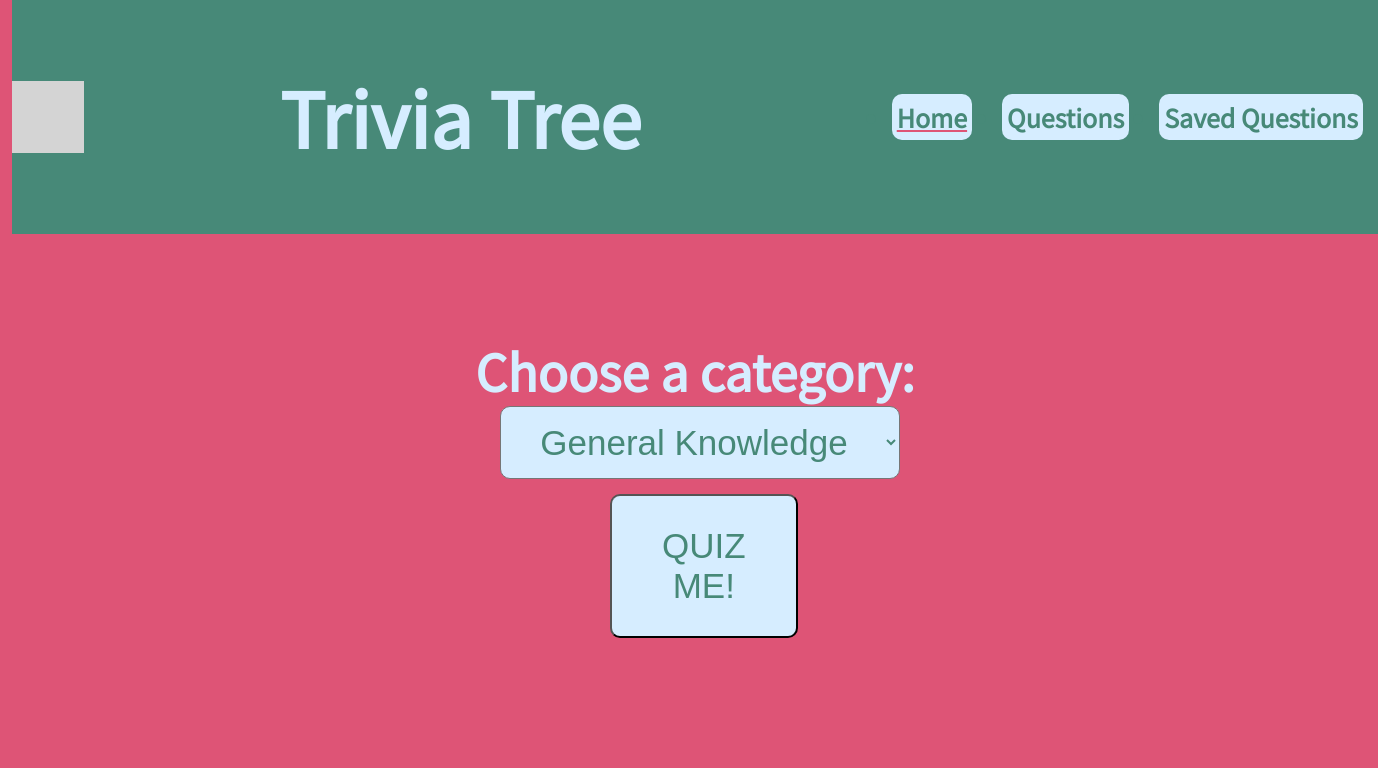
SavedQuestionsDisplay › Should tell the user if they don't have any saved questions yet
Step 1. Click the button "QUIZ ME!" → (704, 566), box left=610, top=494, right=798, bottom=638
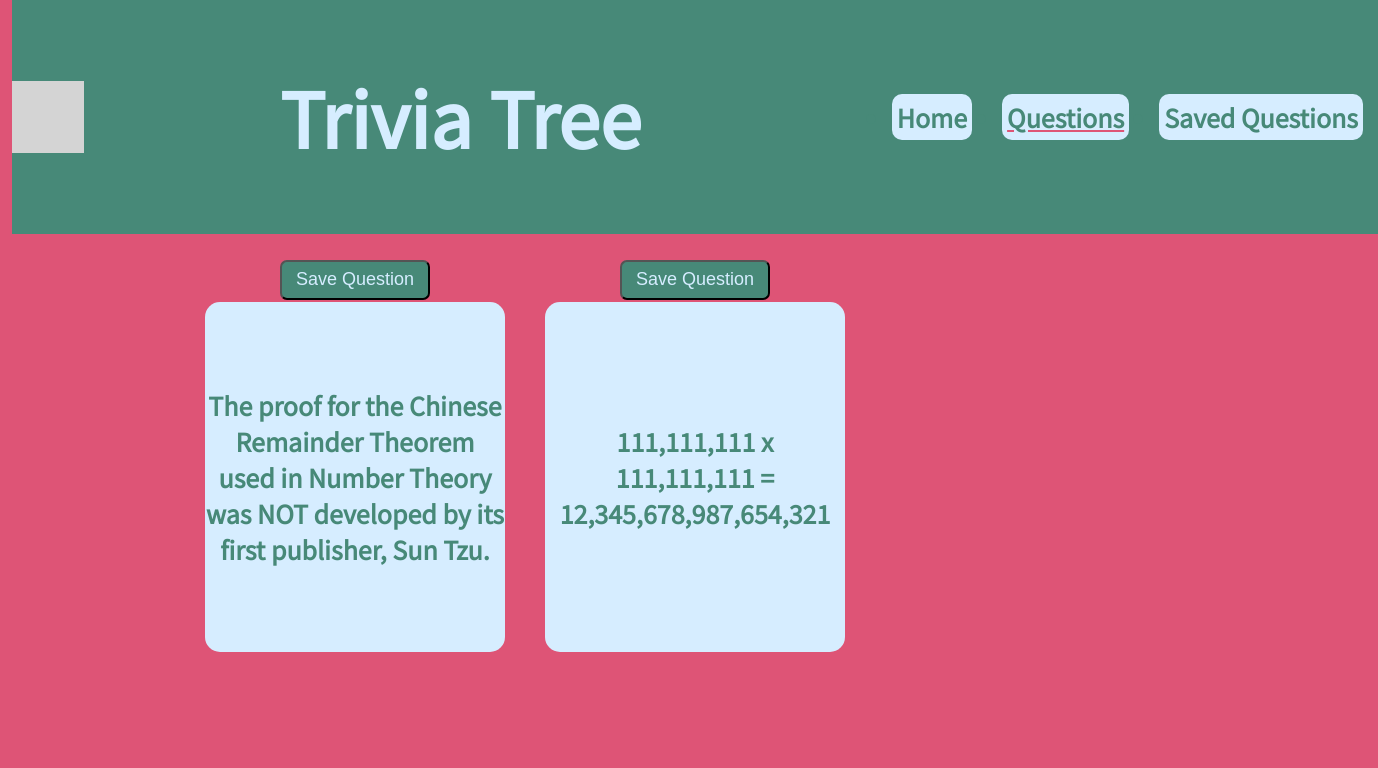
Step 2. Click the link "Saved Questions" → (1261, 117), box left=1164, top=99, right=1358, bottom=135
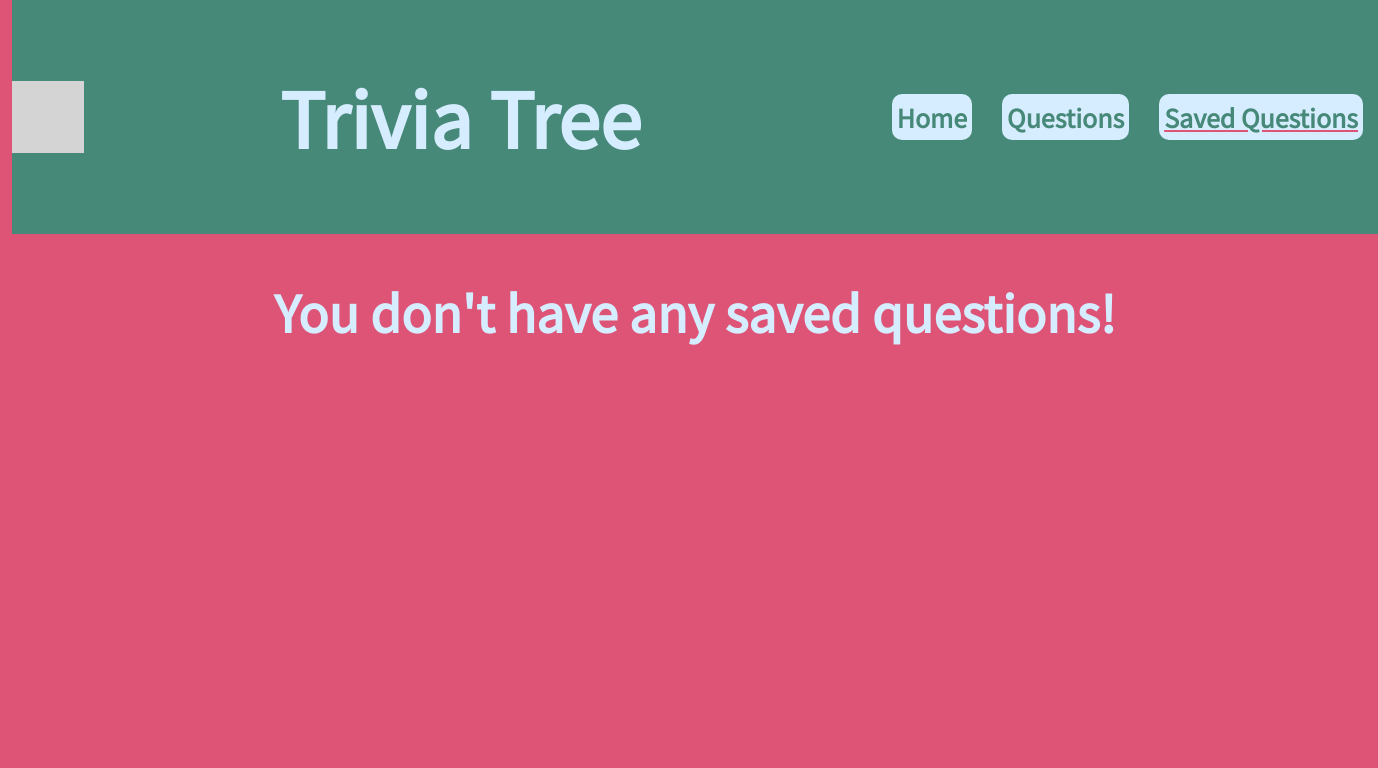
Check: the heading "You don't have any saved questions!" is shown, box left=274, top=275, right=1116, bottom=347
